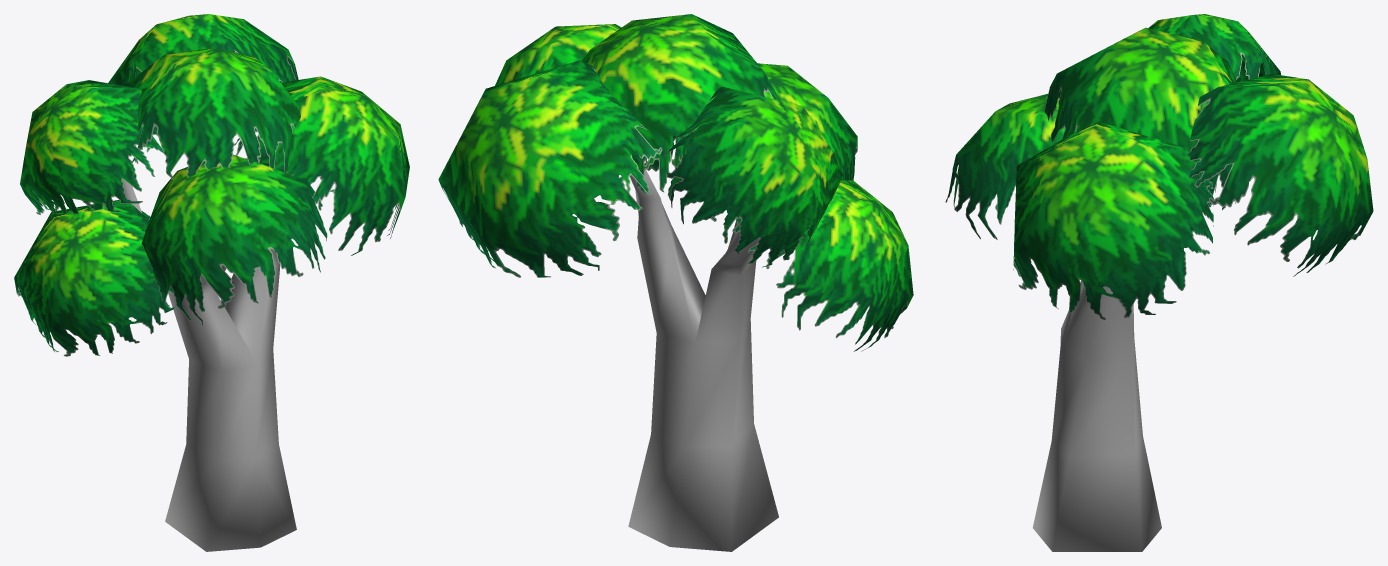
File: Tree.fbx
3 renders of one model, left to right at view 1: azimuth 30°, elevation 25°; view 2: azimuth 150°, elevation 25°; view 3: azimuth 270°, elevation 25°, orthographic. The views are drawn at different scales.
Visible parts, largest first — view 1: pCube3, pSphere1, pSphere7, pSphere4, pSphere6, pSphere5, pSphere3; view 2: pCube3, pSphere3, pSphere5, pSphere4, pSphere7, pSphere1, pSphere6; view 3: pSphere6, pSphere3, pCube3, pSphere4, pSphere1, pSphere5.
Boxes of the visible parts, x1,y1,x2,y2 form: pCube3: [122, 179, 296, 551]; pSphere1: [141, 154, 327, 325]; pSphere7: [14, 200, 175, 356]; pSphere4: [124, 48, 300, 178]; pSphere6: [234, 76, 409, 255]; pSphere5: [20, 80, 163, 214]; pSphere3: [108, 14, 298, 164]; pCube3: [628, 169, 778, 551]; pSphere3: [438, 60, 662, 277]; pSphere5: [663, 86, 843, 267]; pSphere4: [582, 14, 780, 194]; pSphere7: [734, 180, 913, 351]; pSphere1: [644, 63, 857, 253]; pSphere6: [495, 24, 621, 85]; pSphere6: [1013, 122, 1213, 320]; pSphere3: [1188, 74, 1373, 276]; pCube3: [1032, 281, 1161, 551]; pSphere4: [1044, 27, 1252, 210]; pSphere1: [945, 94, 1076, 239]; pSphere5: [1148, 14, 1280, 81].
Bounding box in the file's own units: 379 × 451 × 361.
Materials: 2 (1 with a texture image).
